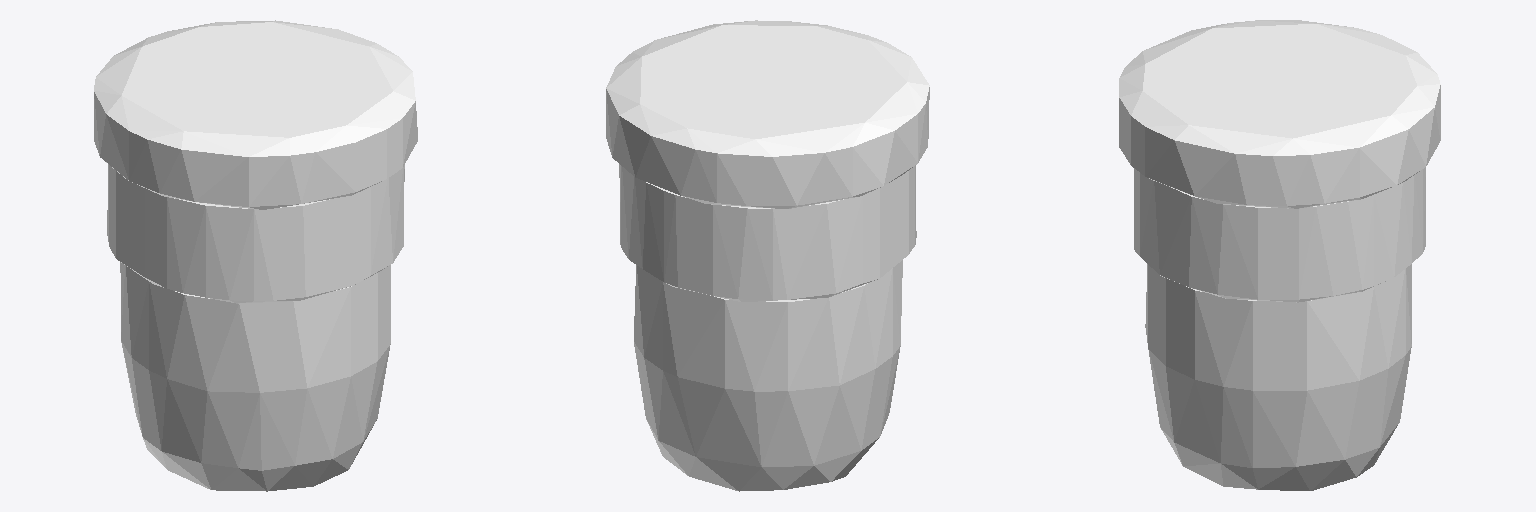
robot.urdf — s0_fi0_fu0_b1_l1_f0.urdf:
<?xml version="1.0" ?>
<robot name="s0_fi0_fu0_b1_l1_f0.urdf">
  <link name="baseLink">
    <contact>
      <lateral_friction value="1.0"/>
      <spinning_friction value="0.001"/>
      <rolling_friction value="0.001"/>
      <contact_cfm value="0.0"/>
      <contact_erp value="1.0"/>
    </contact>
    <inertial>
      <origin rpy="0 0 0" xyz="0.0 0 0.0"/>
       <mass value=".001"/>
       <inertia ixx="1" ixy="0" ixz="0" iyy="1" iyz="0" izz="1"/>
    </inertial>
    <visual>
      <origin rpy="0 0 0" xyz="0 0 0"/>
      <geometry>
				<mesh filename="s0_fi0_fu0_b1_l1_f0_vhacd.obj" scale="1.0 1.0 1.0"/>
      </geometry>
       <material name="white">
        <color rgba="1 1 1 1"/>
      </material>
    </visual>
    <collision>
      <origin rpy="0 0 0" xyz="0 0 0"/>
      <geometry>
	 	<mesh filename="s0_fi0_fu0_b1_l1_f0_vhacd.obj" scale="1.0 1.0 1.0"/>
      </geometry>
    </collision>
  </link>
</robot>

--- What the picture shows (computed from the rendered views, not written in the file) ---
Views: 3 orthographic renders of the robot side by side, from view 1: azimuth 30°, elevation 25°; view 2: azimuth 150°, elevation 25°; view 3: azimuth 270°, elevation 25°.
Model s0_fi0_fu0_b1_l1_f0.urdf with 1 links and 0 joints (none), rooted at baseLink, posed all joints at 0.
Links seen in each view (by area): view 1: baseLink; view 2: baseLink; view 3: baseLink.
Boxes of the visible links, box(x1,y1,x2,y2) form: baseLink: box(94, 20, 417, 491); baseLink: box(606, 20, 929, 491); baseLink: box(1119, 20, 1440, 490).
Size in the robot's own frame: 0.0649 by 0.0649 by 0.083 metres.
1 mesh visuals loaded from 1 distinct referenced files (1 OBJ).